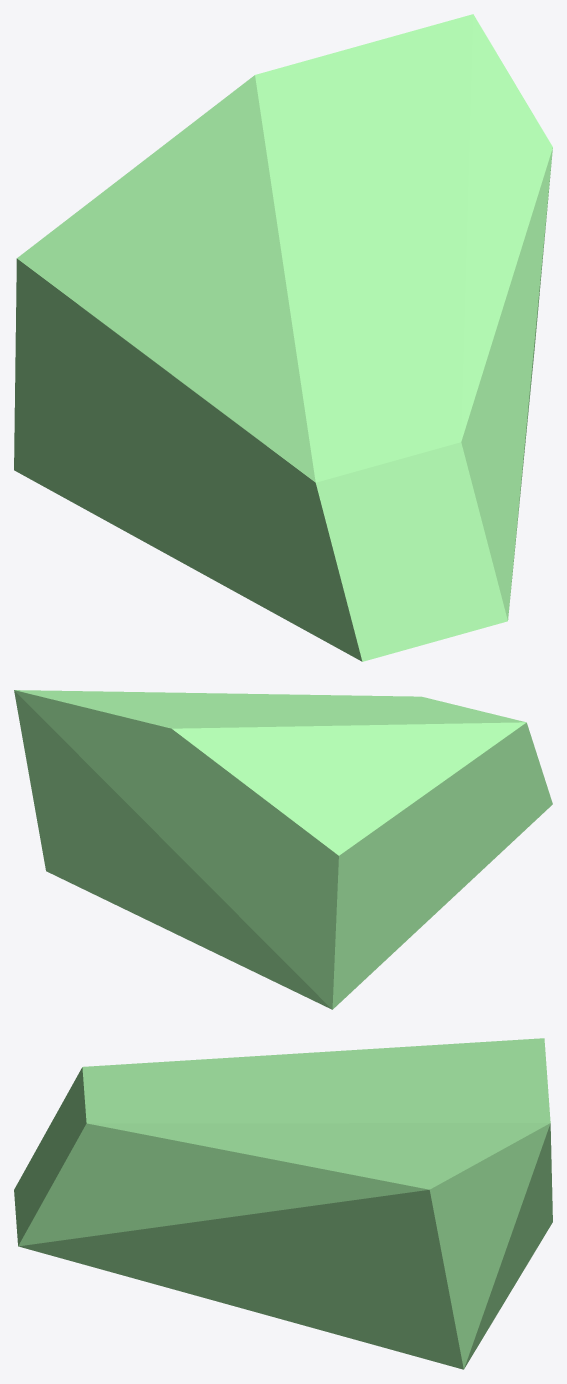
Rendered from dvkr_robot_Lp11_respondable_PSM1_coll_6.dae.
3 renders of one model, top to bottom at view 1: azimuth 30°, elevation 25°; view 2: azimuth 150°, elevation 25°; view 3: azimuth 270°, elevation 25°, orthographic. The views are drawn at different scales.
Parts seen in each view (by area): view 1: Node_0000023514CD9290; view 2: Node_0000023514CD9290; view 3: Node_0000023514CD9290.
Boxes of the visible parts, bbox=[...] form: Node_0000023514CD9290: bbox=[14, 14, 552, 661]; Node_0000023514CD9290: bbox=[14, 690, 552, 1009]; Node_0000023514CD9290: bbox=[14, 1038, 552, 1369].
Size of the model in its own units: 0.0253 by 0.0178 by 0.0311.
